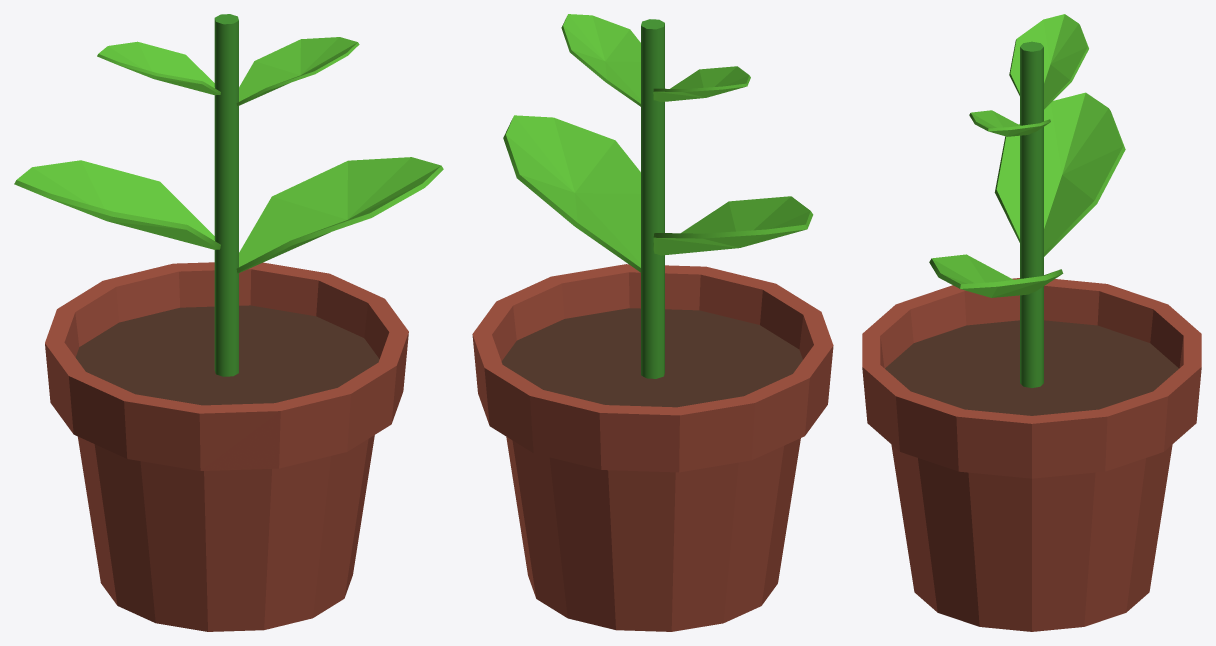
Rendered from Pot_L4.fbx.
3 renders of one model, left to right at view 1: azimuth 30°, elevation 25°; view 2: azimuth 150°, elevation 25°; view 3: azimuth 270°, elevation 25°, orthographic. The views are drawn at different scales.
Visible parts, largest first — view 1: L4_Pot, L4_Soil, L4_Leaf_R, L4_Stem, L4_Leaf_L, L4_Leaf_R2, L4_Leaf_L2; view 2: L4_Pot, L4_Soil, L4_Leaf_R, L4_Stem, L4_Leaf_L, L4_Leaf_R2, L4_Leaf_L2; view 3: L4_Pot, L4_Soil, L4_Leaf_L, L4_Stem, L4_Leaf_L2, L4_Leaf_R, L4_Leaf_R2.
Boxes of the visible parts, left/top/right/bottom form: L4_Pot: left=45, top=262, right=408, bottom=631; L4_Soil: left=75, top=305, right=379, bottom=405; L4_Leaf_R: left=236, top=157, right=443, bottom=273; L4_Stem: left=214, top=14, right=238, bottom=376; L4_Leaf_L: left=14, top=160, right=220, bottom=249; L4_Leaf_R2: left=236, top=37, right=359, bottom=105; L4_Leaf_L2: left=97, top=41, right=220, bottom=95; L4_Pot: left=472, top=264, right=833, bottom=631; L4_Soil: left=501, top=308, right=802, bottom=407; L4_Leaf_R: left=503, top=115, right=640, bottom=272; L4_Stem: left=641, top=19, right=664, bottom=378; L4_Leaf_L: left=653, top=196, right=813, bottom=255; L4_Leaf_R2: left=561, top=14, right=640, bottom=106; L4_Leaf_L2: left=653, top=66, right=750, bottom=101; L4_Pot: left=862, top=278, right=1201, bottom=631; L4_Soil: left=885, top=320, right=1178, bottom=415; L4_Leaf_L: left=994, top=92, right=1125, bottom=256; L4_Stem: left=1020, top=41, right=1043, bottom=387; L4_Leaf_L2: left=1009, top=14, right=1088, bottom=109; L4_Leaf_R: left=929, top=254, right=1063, bottom=297; L4_Leaf_R2: left=969, top=110, right=1050, bottom=136.
Size of the model in its own units: 29.9 by 44 by 25.35.
